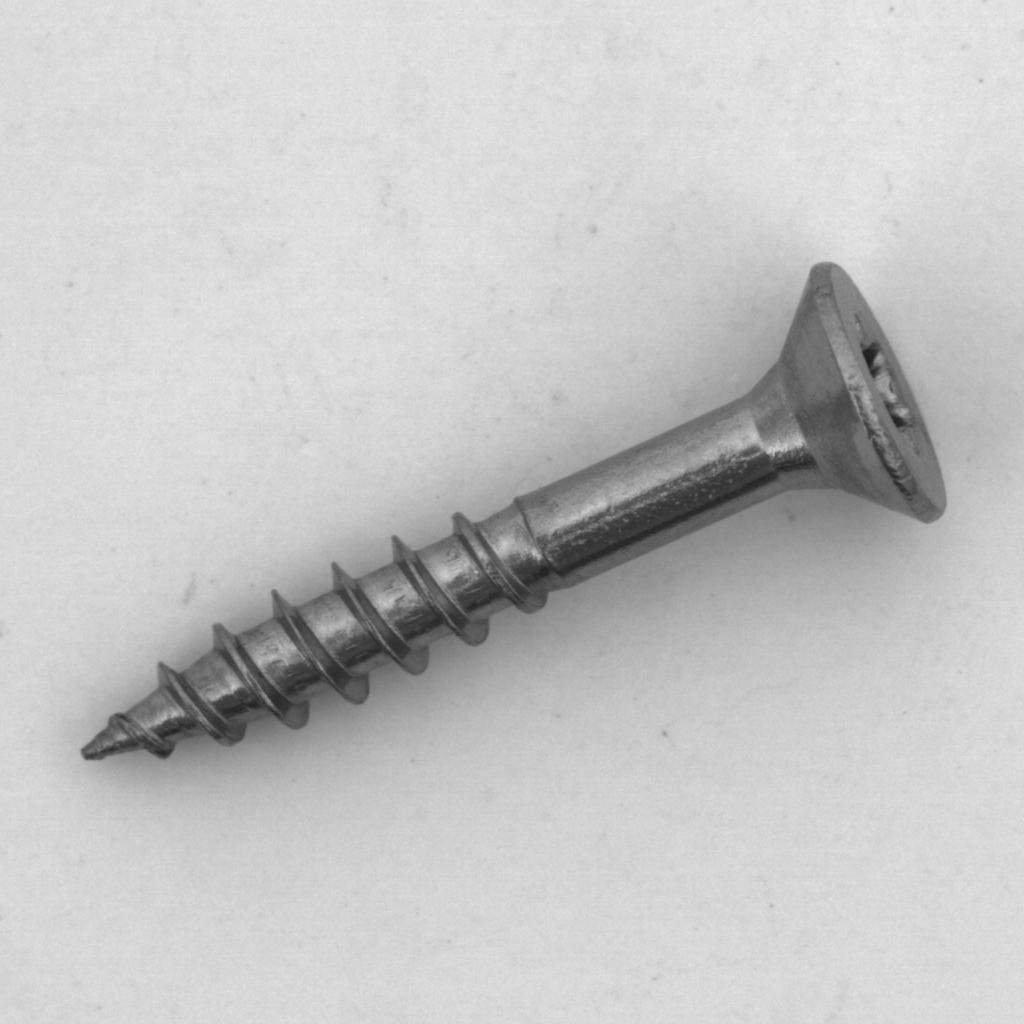good: (58, 239, 966, 783)
